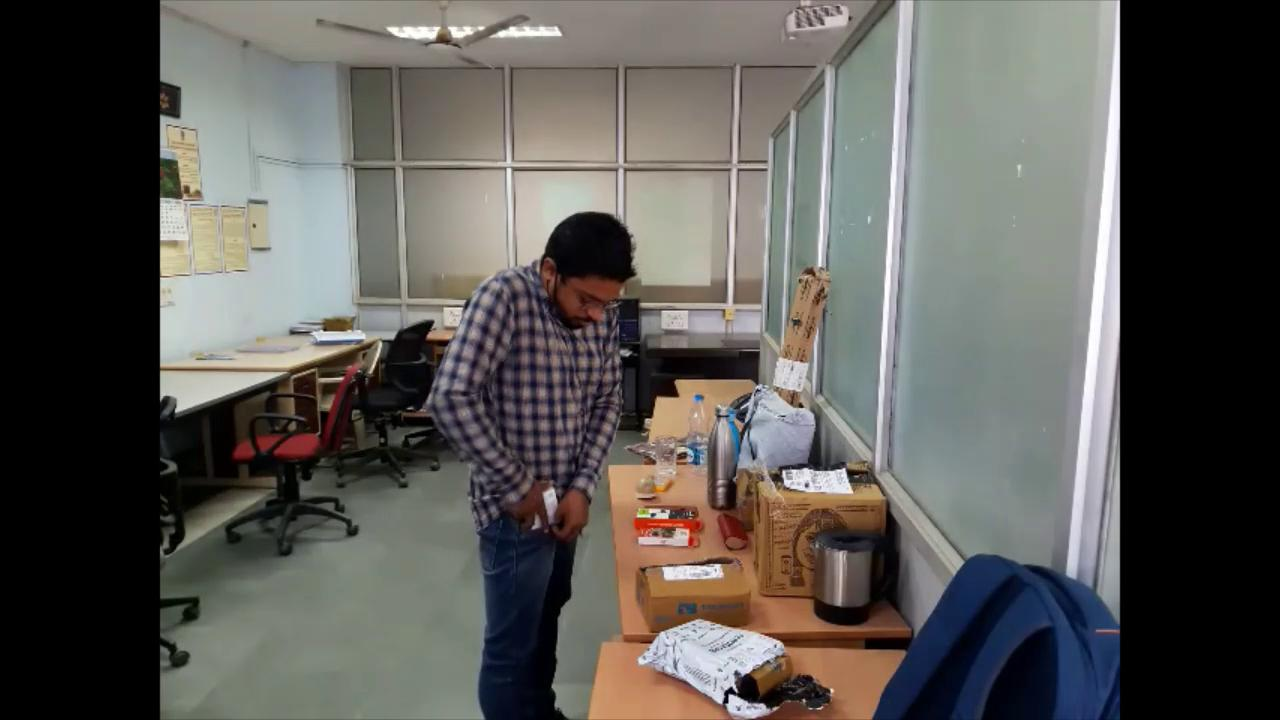shoplifting: (415, 199, 645, 720)
